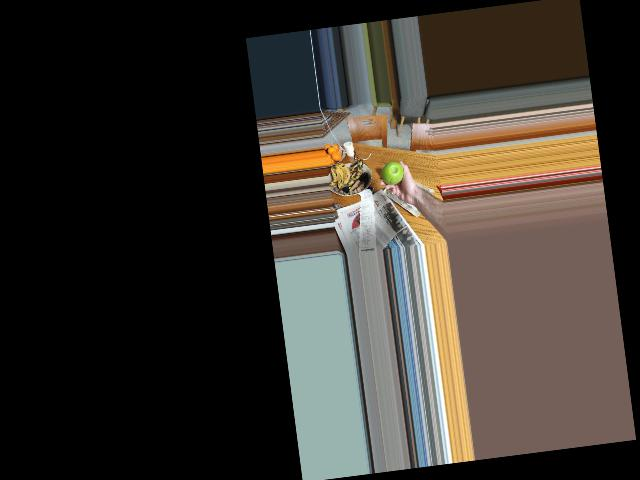apple: (380, 159, 407, 186)
